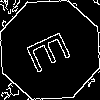E: (25, 25, 81, 75)
